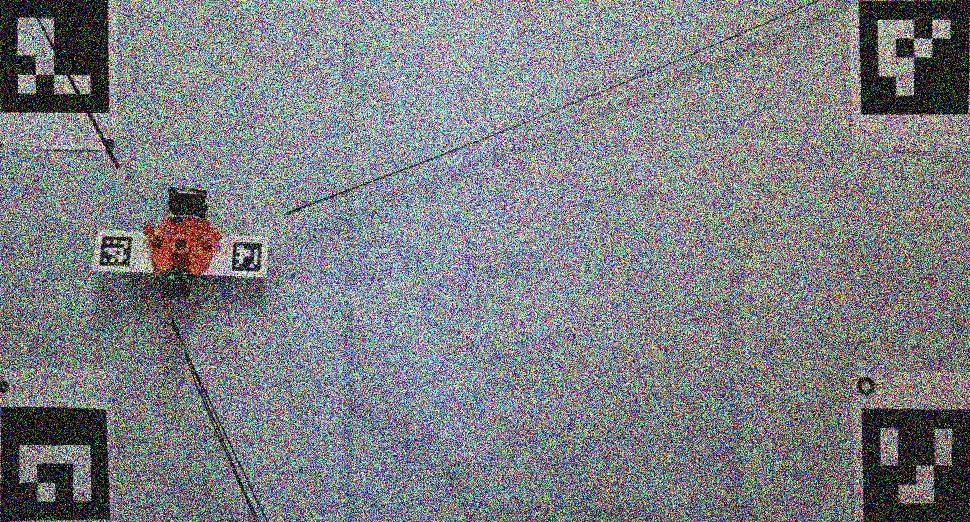robot: (144, 188, 223, 297)
